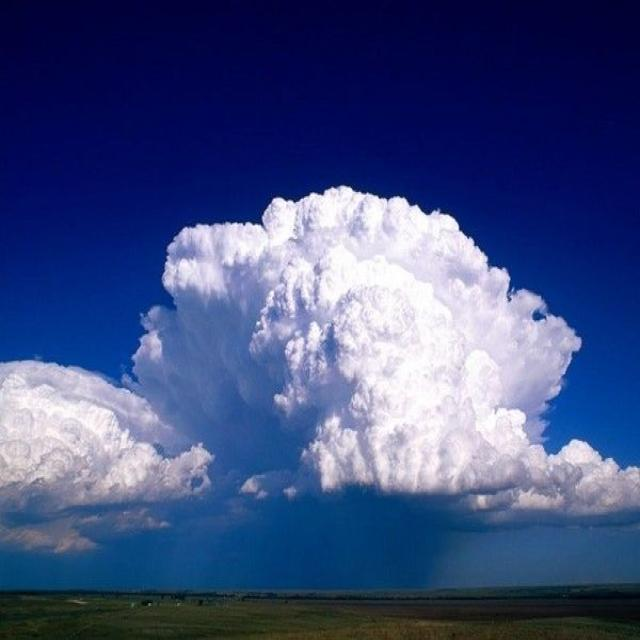cumulonimbus: (0, 169, 640, 585)
